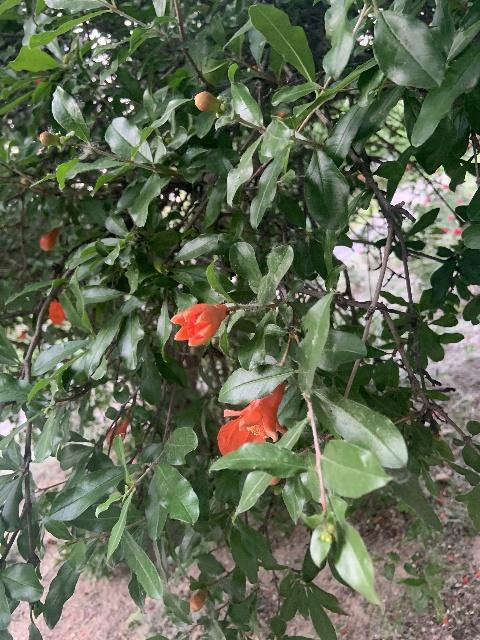bud: (106, 418, 127, 446), (193, 91, 221, 111), (39, 228, 58, 251), (39, 131, 60, 146)
flower: (217, 380, 289, 457), (170, 302, 227, 346)
